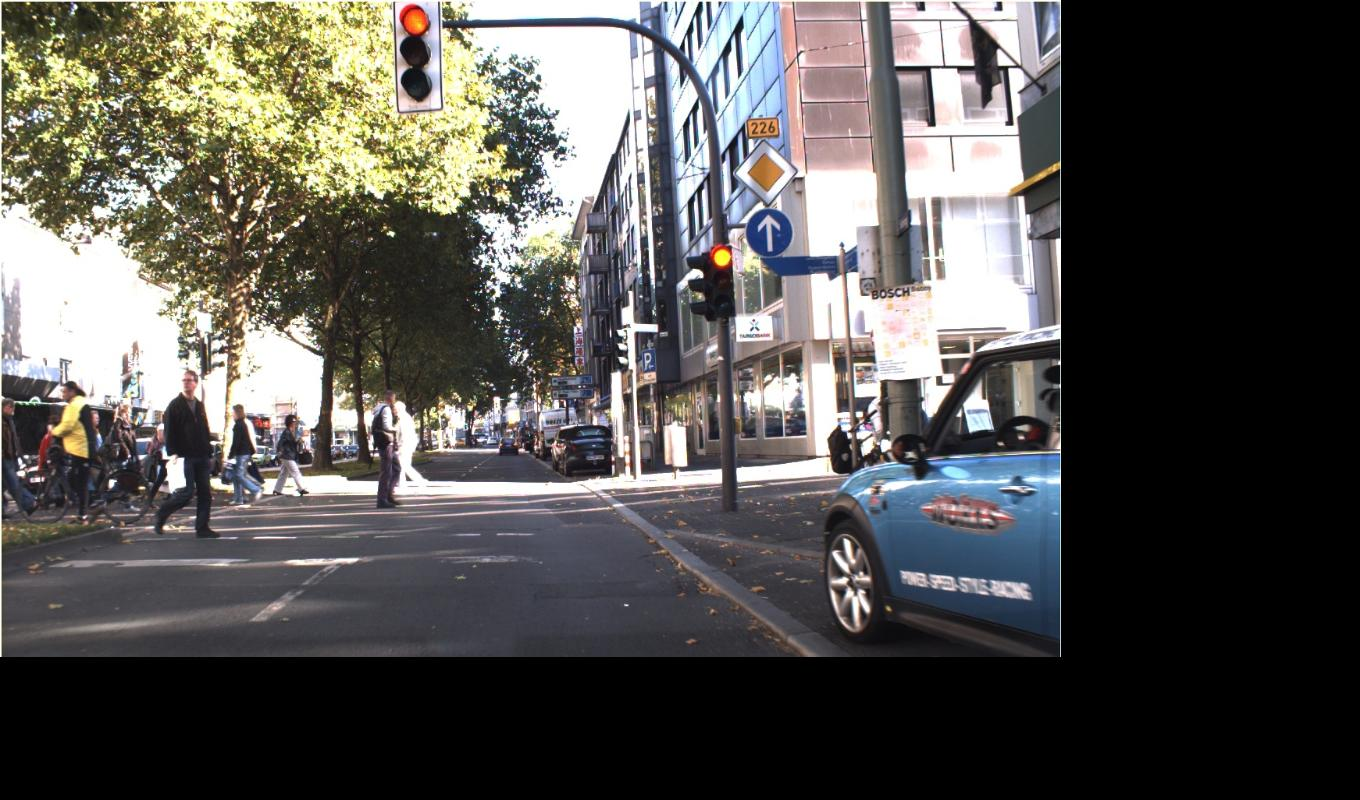priority road: (732, 137, 798, 257)
